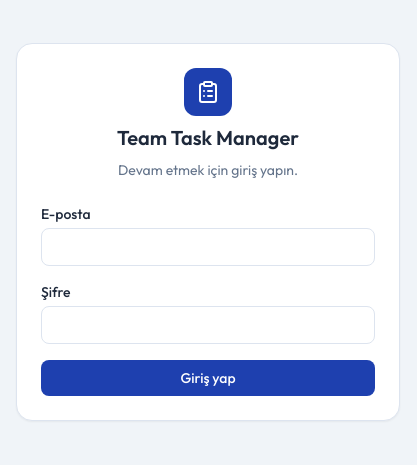
Test: LoginPage › API hatasını ekranda gösterir
This screenshot has width=417, height=465.
Type "a@b.co" into the field labelled "E-posta" at [208, 247], box [41, 228, 375, 266]
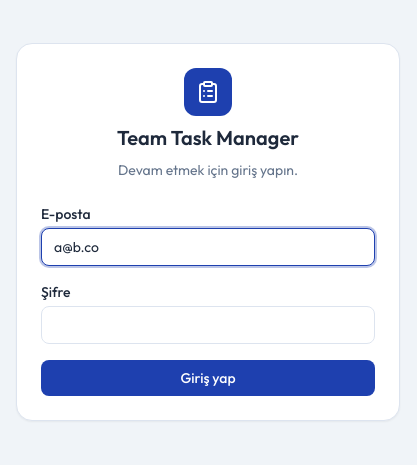
Type "yanlis" into the password field labelled "Şifre" at [208, 325], box [41, 306, 375, 344]
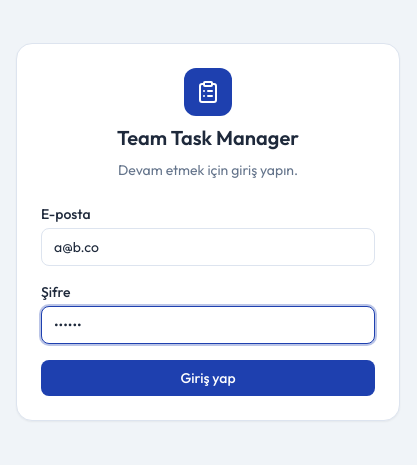
Click the button "Giriş yap" at [208, 378], box [41, 360, 375, 396]
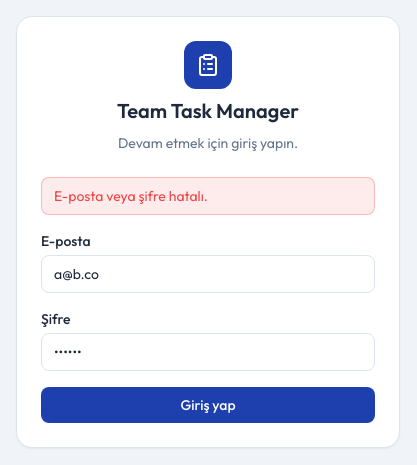
Expected: the message reads "E-posta veya şifre hatalı.", [54, 187, 208, 205]
